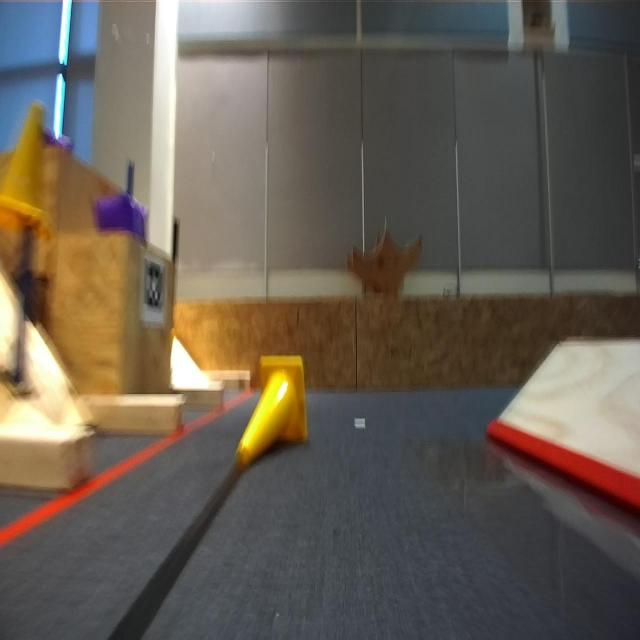frc_cone: (234, 356, 306, 468), (0, 100, 51, 234)
frc_cube: (94, 192, 144, 237)
